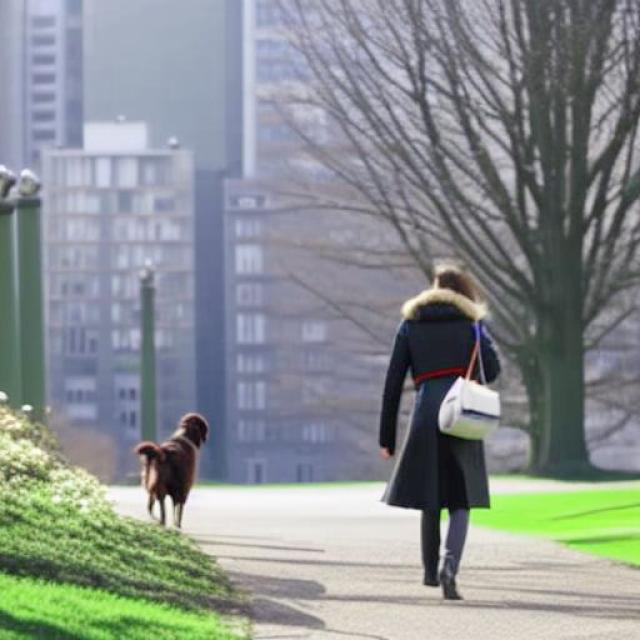Unleashed_Dog: (136, 387, 440, 529)
